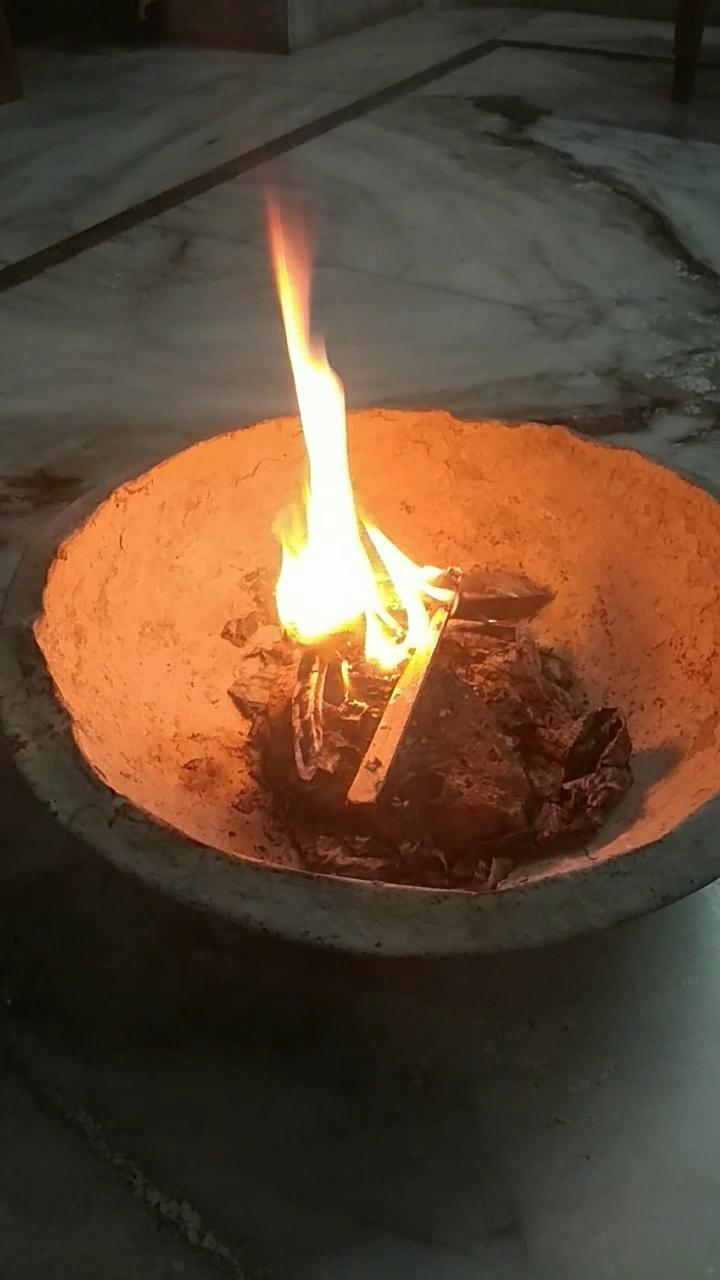fire: (252, 194, 456, 672)
